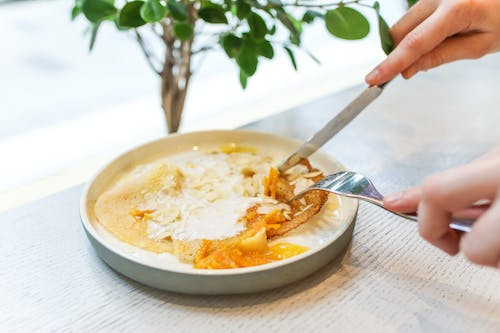knife: (276, 83, 384, 172)
